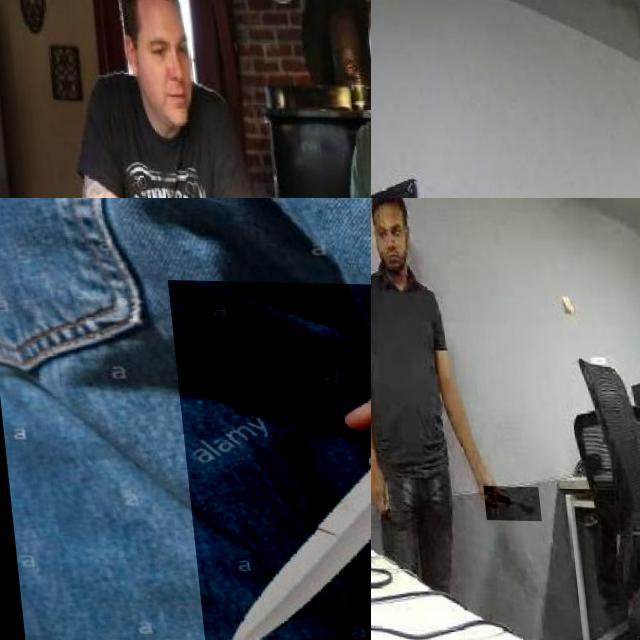-: (164, 279, 371, 640), (472, 484, 530, 520)
